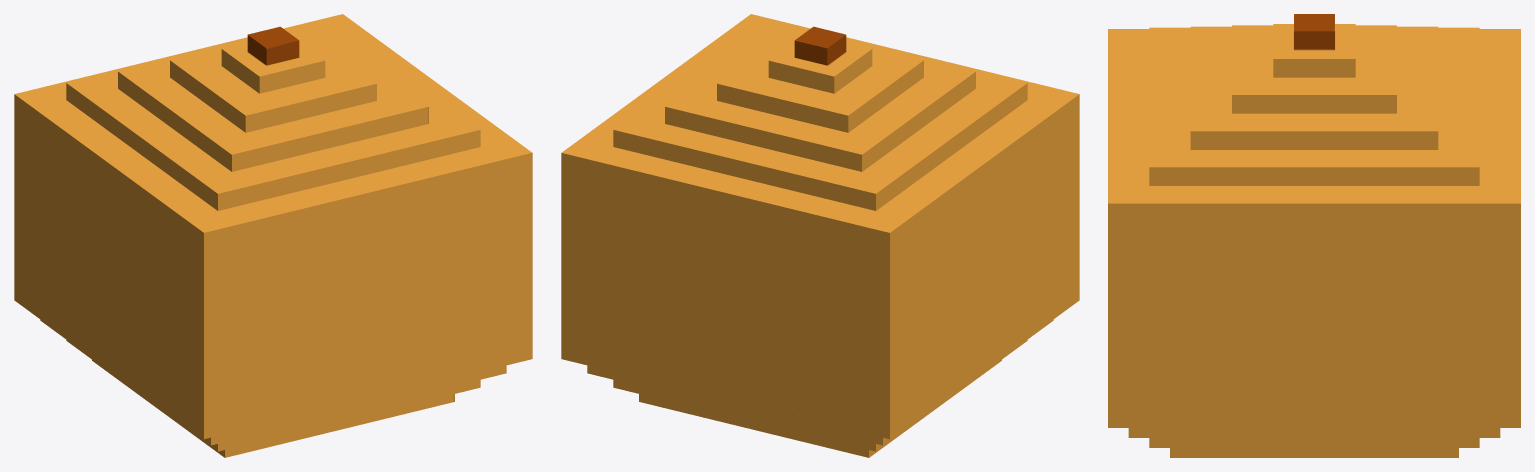
File: bontan.glb
The picture shows the model from 3 angles, left to right: view 1: azimuth 30°, elevation 25°; view 2: azimuth 150°, elevation 25°; view 3: azimuth 270°, elevation 25°; orthographic projection. The views are drawn at different scales.
Visible parts, largest first — view 1: bontan; view 2: bontan; view 3: bontan.
Boxes of the visible parts, <box> form: bontan: <box>14,14,532,457</box>; bontan: <box>561,14,1079,457</box>; bontan: <box>1108,14,1520,457</box>.
Bounding box in the file's own units: 0.4 × 0.4 × 0.4.
Materials: 1 (1 with a texture image).
